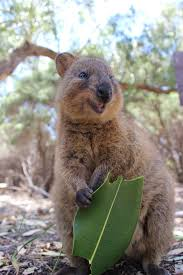quokka: (33, 36, 175, 271)
